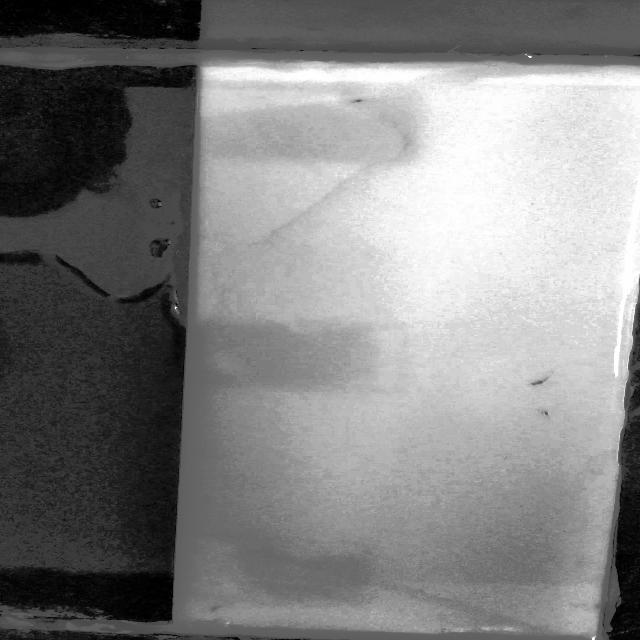shrimp: (533, 402, 556, 425), (523, 372, 552, 389), (343, 94, 377, 108), (205, 602, 227, 613)
